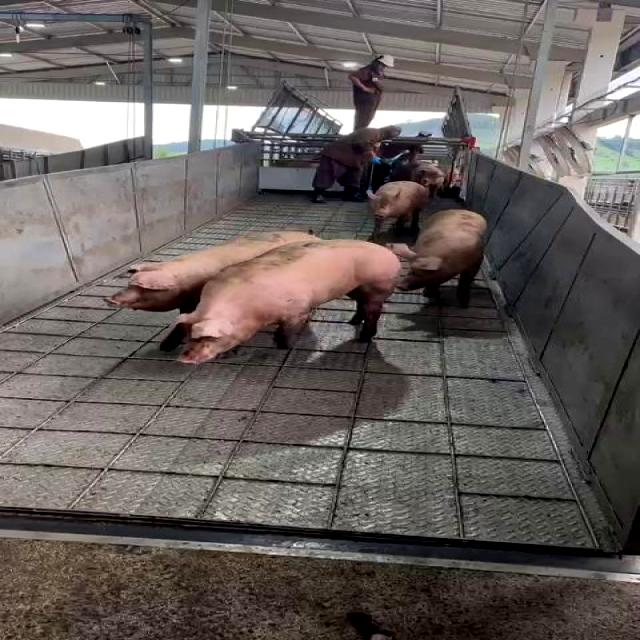pig: (177, 240, 399, 362), (108, 232, 317, 312), (393, 210, 486, 304), (369, 181, 428, 233)
